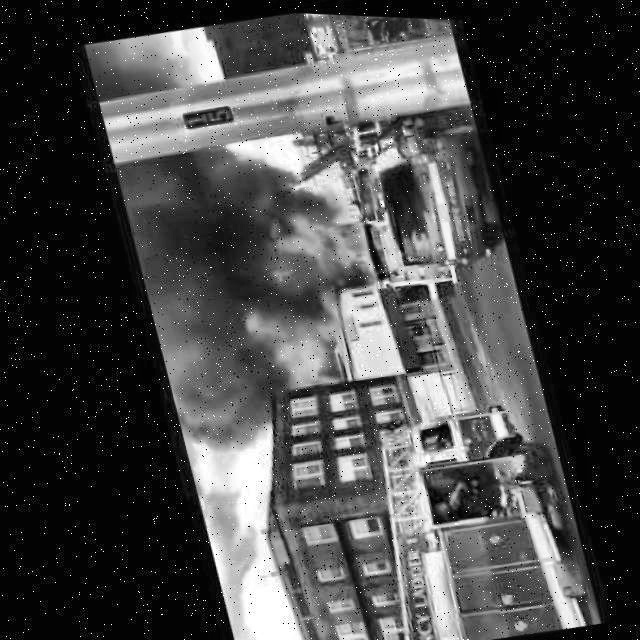Fire: (233, 277, 350, 401), (261, 200, 360, 285)
Smoke: (101, 134, 315, 461)
